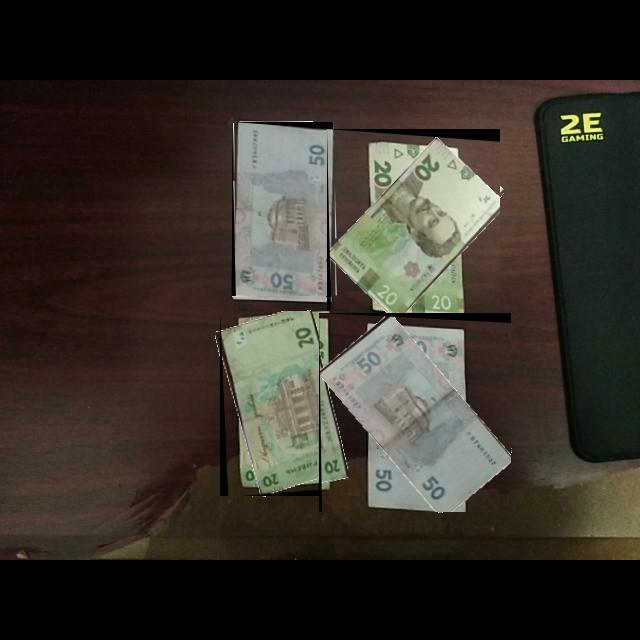20uah: (329, 135, 501, 316), (221, 311, 348, 495)
50uah: (321, 316, 512, 513), (236, 123, 334, 297)
